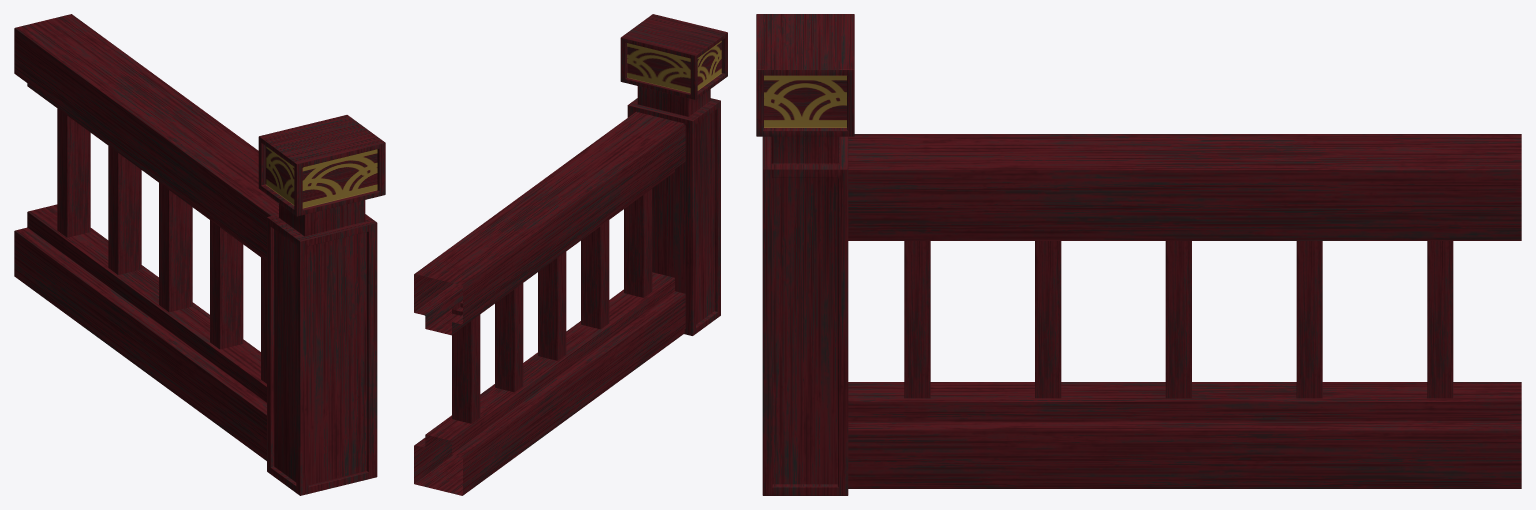
File: SM_fence.fbx
The picture shows the model from 3 angles, left to right: view 1: azimuth 30°, elevation 25°; view 2: azimuth 150°, elevation 25°; view 3: azimuth 270°, elevation 25°; orthographic projection. The views are drawn at different scales.
Visible parts, largest first — view 1: SM_fence; view 2: SM_fence; view 3: SM_fence.
Part boxes in pixels (<box>): SM_fence: <box>14,14,385,495</box>; SM_fence: <box>414,14,727,495</box>; SM_fence: <box>756,14,1521,495</box>.
Size of the model in its own units: 35 by 203 by 126.
Materials: 2 (2 with a texture image).
